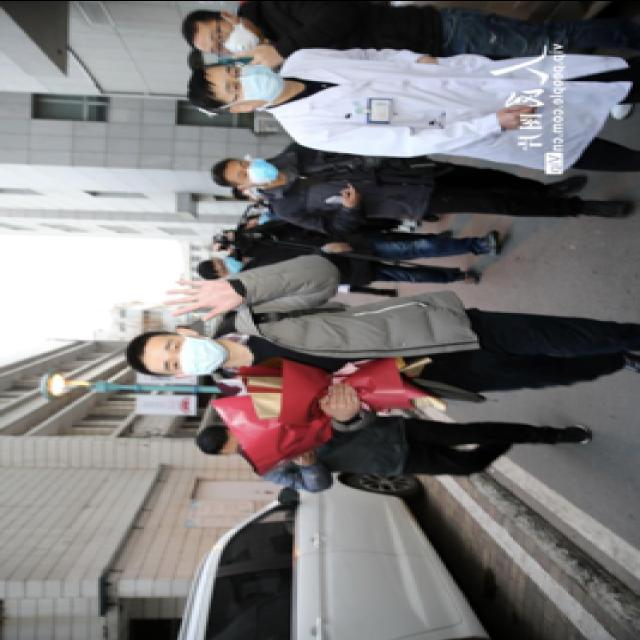mask: (158, 332, 230, 374), (218, 61, 280, 102), (206, 20, 256, 54), (232, 156, 278, 186), (208, 254, 242, 274)
